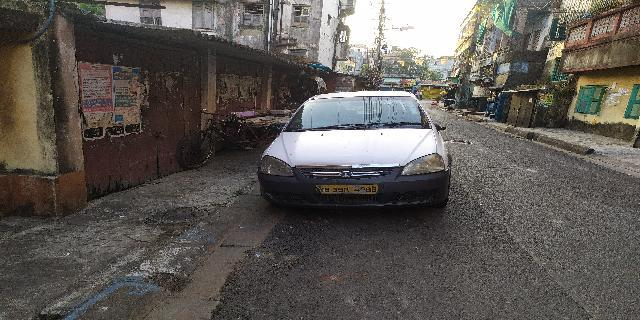Car: (256, 88, 455, 218)
